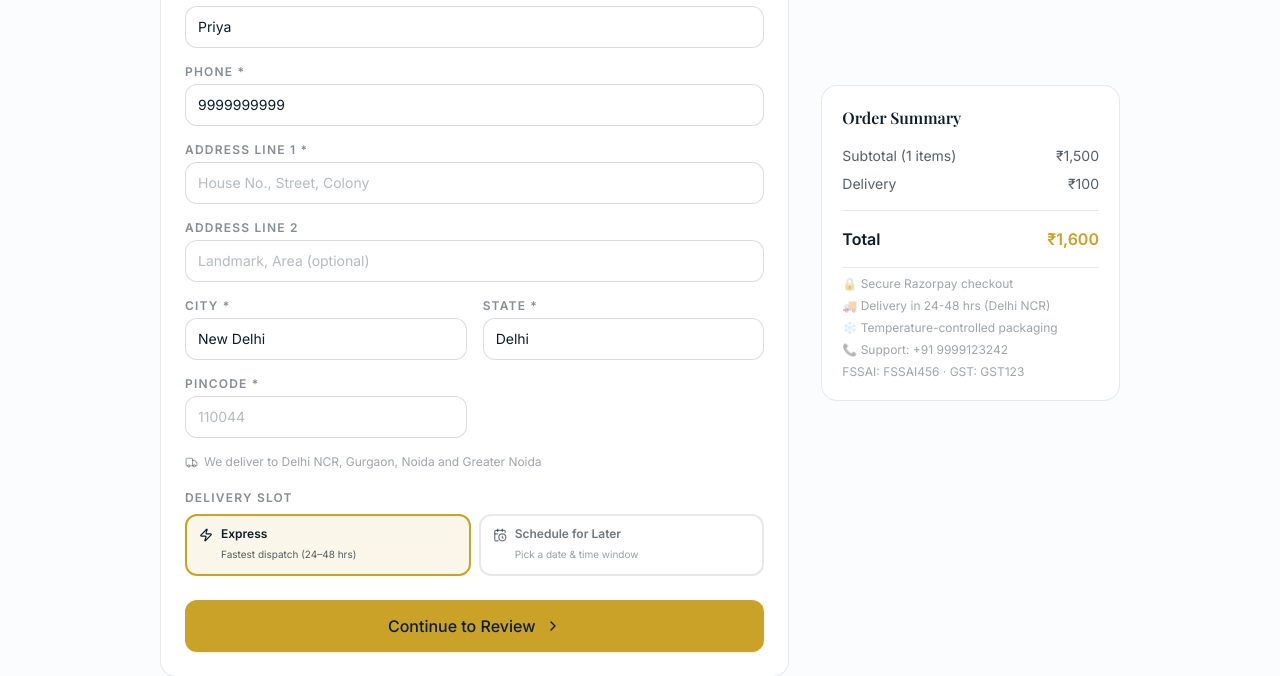
CheckoutPage — delivery slot › defaults to express delivery and reveals date/window pickers when scheduling
The width and height of the screenshot is (1280, 676).
(page scrolled)
Expected: the text "Fastest dispatch (24–48 hrs)" is shown, [221, 544, 356, 564]
Step 1. Click the button "Schedule for Later Pick a date & time window" → point(622, 545), box [479, 514, 764, 576]
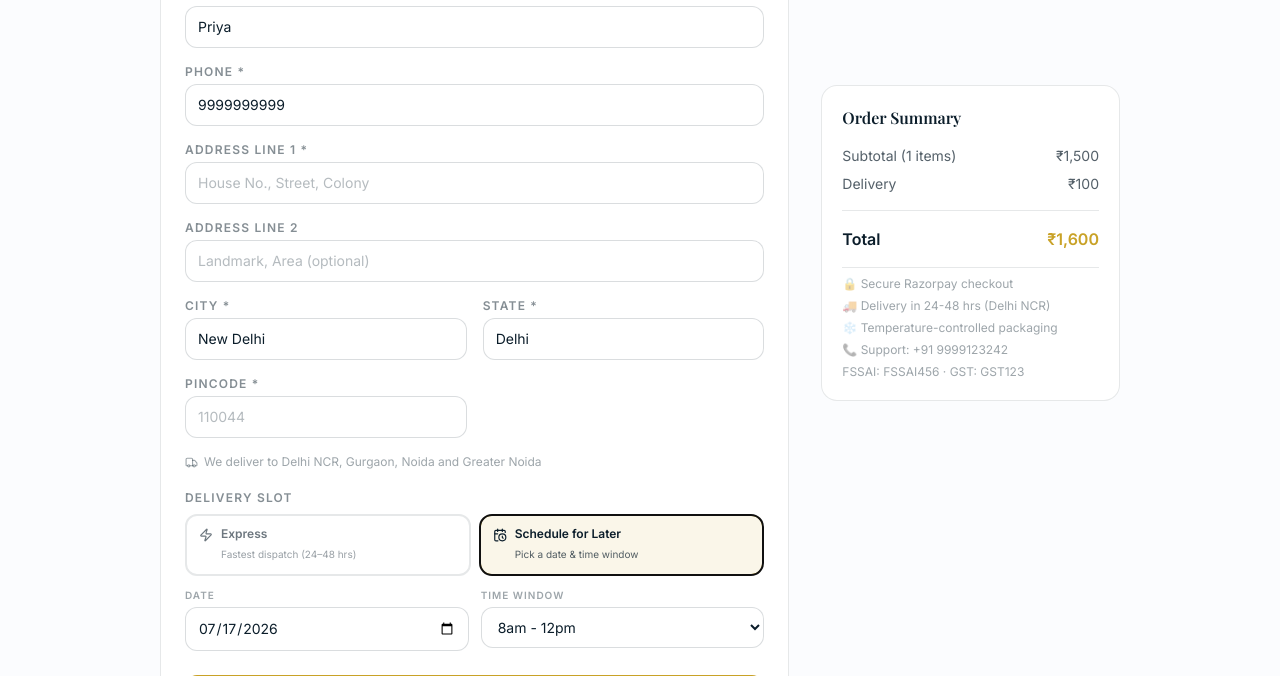
Expected: the text "Time Window" is shown, [481, 589, 564, 601]
